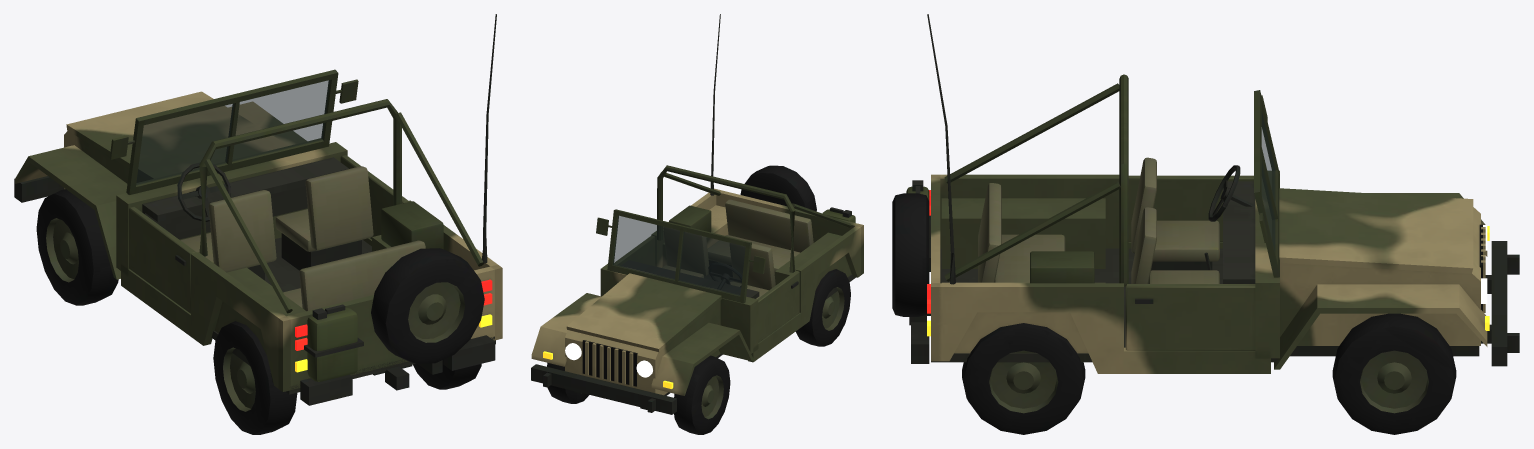
File: patrol_jeep.glb
3 renders of one model, left to right at view 1: azimuth 30°, elevation 25°; view 2: azimuth 150°, elevation 25°; view 3: azimuth 270°, elevation 25°, orthographic. The views are drawn at different scales.
Parts seen in each view (by area): view 1: lod0, window_front, hood, wheel_fl, wheel_rl, door_fl, bumper_r, door_fr, wheel_rr, steering_wheel, bumper_f; view 2: lod0, hood, window_front, wheel_fl, bumper_f, wheel_rl, door_fl, door_fr, wheel_fr, steering_wheel; view 3: lod0, hood, wheel_fr, wheel_rr, door_fr, door_fl, bumper_f, window_front, steering_wheel, bumper_r.
Part boxes in pixels (x1,y1,x2,y2): lod0: (15, 14, 502, 394); window_front: (136, 80, 330, 184); hood: (66, 91, 288, 179); wheel_fl: (36, 189, 118, 305); wheel_rl: (213, 321, 297, 434); door_fl: (129, 207, 196, 313); bumper_r: (300, 335, 495, 405); door_fr: (340, 155, 408, 239); wheel_rr: (413, 360, 481, 389); steering_wheel: (177, 162, 230, 221); bumper_f: (14, 176, 63, 202); lod0: (531, 14, 863, 409); hood: (566, 273, 721, 351); window_front: (613, 216, 745, 295); wheel_fl: (674, 355, 730, 434); bumper_f: (531, 364, 676, 414); wheel_rl: (795, 269, 850, 346); door_fl: (757, 270, 799, 342); door_fr: (614, 235, 655, 265); wheel_fr: (547, 362, 588, 403); steering_wheel: (708, 262, 742, 289); lod0: (892, 14, 1489, 373); hood: (1279, 188, 1473, 273); wheel_fr: (1332, 313, 1456, 434); wheel_rr: (962, 323, 1085, 434); door_fr: (1125, 284, 1255, 350); door_fl: (1128, 175, 1253, 242); bumper_f: (1481, 241, 1519, 366); window_front: (1261, 111, 1275, 252); steering_wheel: (1208, 165, 1255, 221); bumper_r: (909, 313, 930, 363).
Size of what is drawn, in the model's own units: 1.92 by 3 by 4.06.
9 materials, 2 textured.
